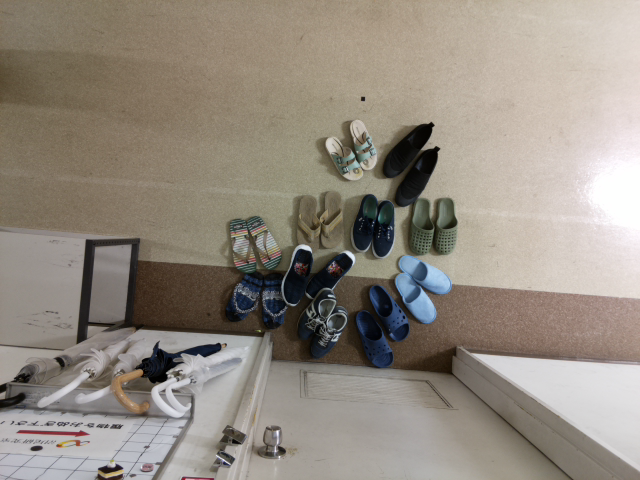Copy of Copy of Copy of Copy of Copy of Copy of Copy of Copy of Copy of Copy of: (376, 114, 436, 182), (387, 143, 447, 211), (395, 249, 459, 305), (363, 278, 413, 348), (390, 265, 440, 335), (300, 243, 358, 303), (347, 305, 397, 374), (277, 239, 321, 311), (290, 183, 326, 259), (313, 180, 349, 256), (292, 287, 338, 346), (306, 304, 351, 363)
Copy of Copy of Copy of Copy of Copy of Copy of Copy of Copy of Copy of shoe: (252, 269, 294, 332)
Copy of Copy of Copy of Copy of Copy of Copy of Copy of Copy of shoe: (221, 263, 263, 326)
Copy of Copy of Copy of Copy of Copy of Copy of Copy of shoe: (245, 207, 284, 275)
Copy of Copy of Copy of Copy of Copy of Copy of shoe: (221, 211, 260, 277)
Copy of Copy of Copy of Copy of Copy of shoe: (365, 195, 403, 260)
Copy of Copy of Copy of Copy of Copy of umbrella: (1, 320, 145, 409)
Copy of Copy of Copy of Copy of shoe: (347, 189, 386, 254)
Copy of Copy of Copy of Copy of umbrella: (37, 328, 146, 411)
Copy of Copy of Copy of shoe: (428, 192, 467, 258)
Copy of Copy of Copy of umbrella: (68, 327, 158, 411)
Copy of Copy of shoe: (400, 191, 439, 256)
Copy of Copy of umbrella: (103, 334, 234, 419)
Copy of shoe: (341, 110, 380, 176)
Copy of umbrella: (159, 339, 262, 420)
shoe: (317, 128, 367, 186)
umbrella: (142, 341, 256, 423)
